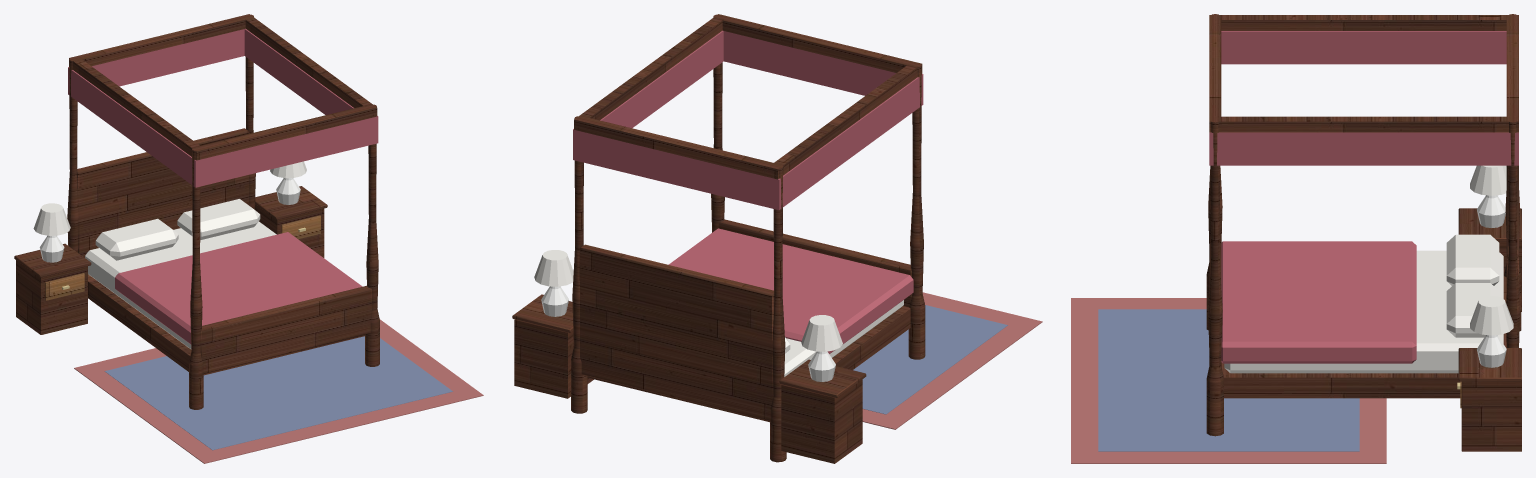
The model's file is bedroom_set.glb.
3 views of the same model, side by side, from view 1: azimuth 30°, elevation 25°; view 2: azimuth 150°, elevation 25°; view 3: azimuth 270°, elevation 25° (orthographic). The views are drawn at different scales.
Visible parts, largest first — view 1: bedroom_set_dkwood, bedroom_set_velvet, bedroom_set_rug2, bedroom_set_linen, bedroom_set_rug, bedroom_set_oak, bedroom_set_porcelain; view 2: bedroom_set_dkwood, bedroom_set_velvet, bedroom_set_rug2, bedroom_set_rug, bedroom_set_linen, bedroom_set_porcelain; view 3: bedroom_set_velvet, bedroom_set_dkwood, bedroom_set_rug2, bedroom_set_linen, bedroom_set_rug, bedroom_set_porcelain.
Boxes of the visible parts, box(x1,y1,x2,y2) form: bedroom_set_dkwood: box(14, 14, 379, 409); bedroom_set_velvet: box(68, 28, 378, 344); bedroom_set_rug2: box(104, 336, 452, 450); bedroom_set_linen: box(33, 161, 306, 349); bedroom_set_rug: box(74, 319, 483, 463); bedroom_set_oak: box(45, 215, 320, 300); bedroom_set_porcelain: box(39, 178, 300, 262); bedroom_set_dkwood: box(512, 14, 925, 463); bedroom_set_velvet: box(573, 30, 923, 353); bedroom_set_rug2: box(853, 305, 1007, 414); bedroom_set_rug: box(862, 292, 1042, 429); bedroom_set_linen: box(534, 250, 903, 376); bedroom_set_porcelain: box(541, 286, 835, 381); bedroom_set_velvet: box(1209, 31, 1518, 363); bedroom_set_dkwood: box(1206, 14, 1521, 451); bedroom_set_rug2: box(1098, 309, 1359, 451); bedroom_set_linen: box(1224, 165, 1513, 373); bedroom_set_rug: box(1071, 298, 1386, 463); bedroom_set_porcelain: box(1477, 195, 1506, 367).
Size of the model in its own units: 2.68 by 2.3 by 3.
8 materials, 2 textured.
